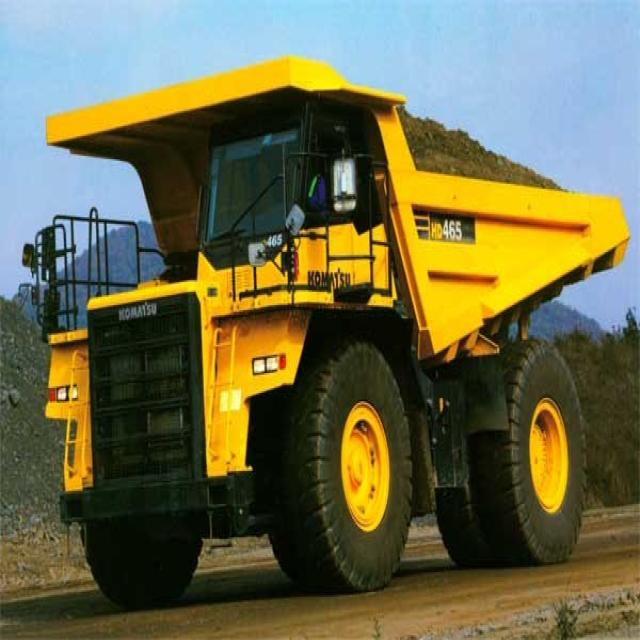dump_truck: (30, 47, 628, 586)
